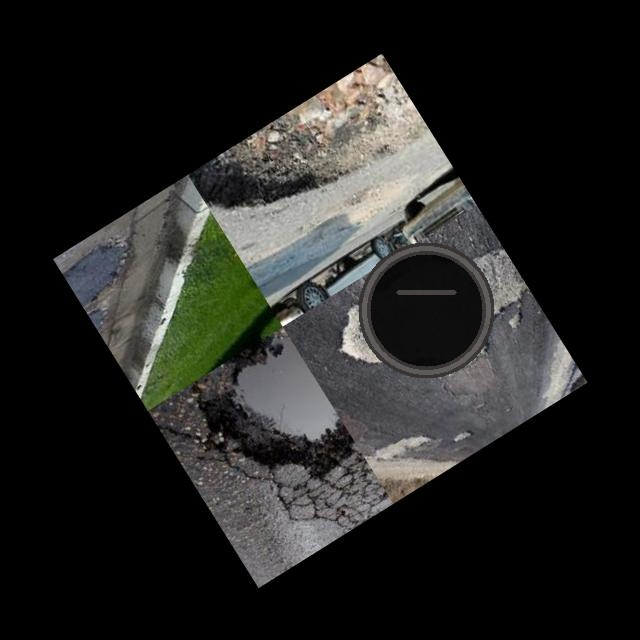open_manhole: (355, 239, 497, 381)
